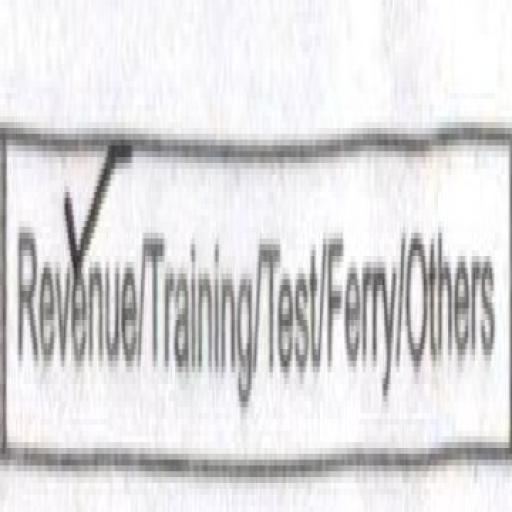check: (2, 90, 140, 512)
